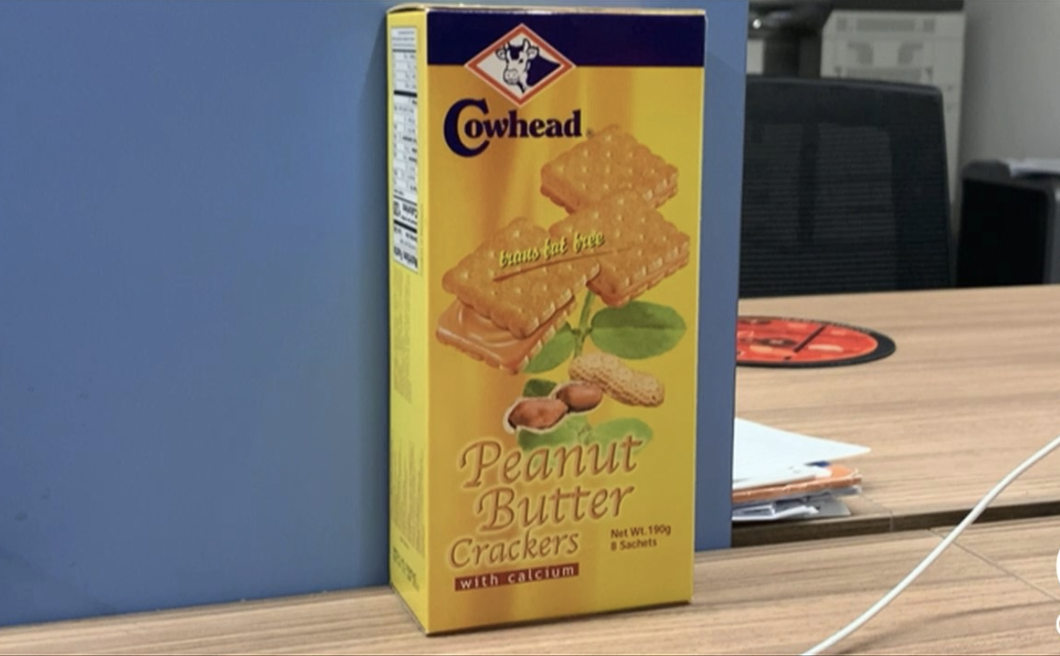crackers_150g: (441, 32, 684, 596)
